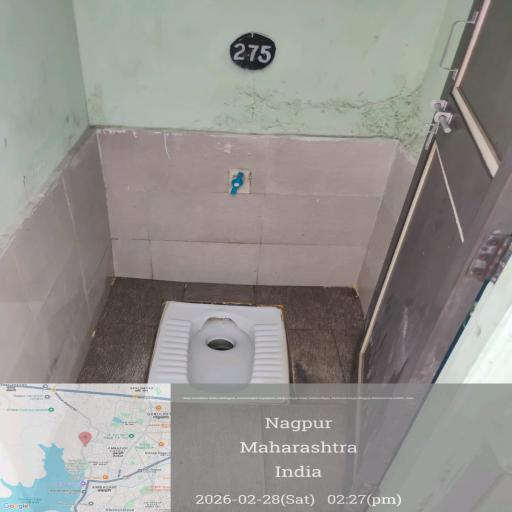clean_floor: (40, 32, 456, 252)
clean_indian: (127, 254, 344, 427)
partial_dirty_floor: (84, 292, 426, 512)
